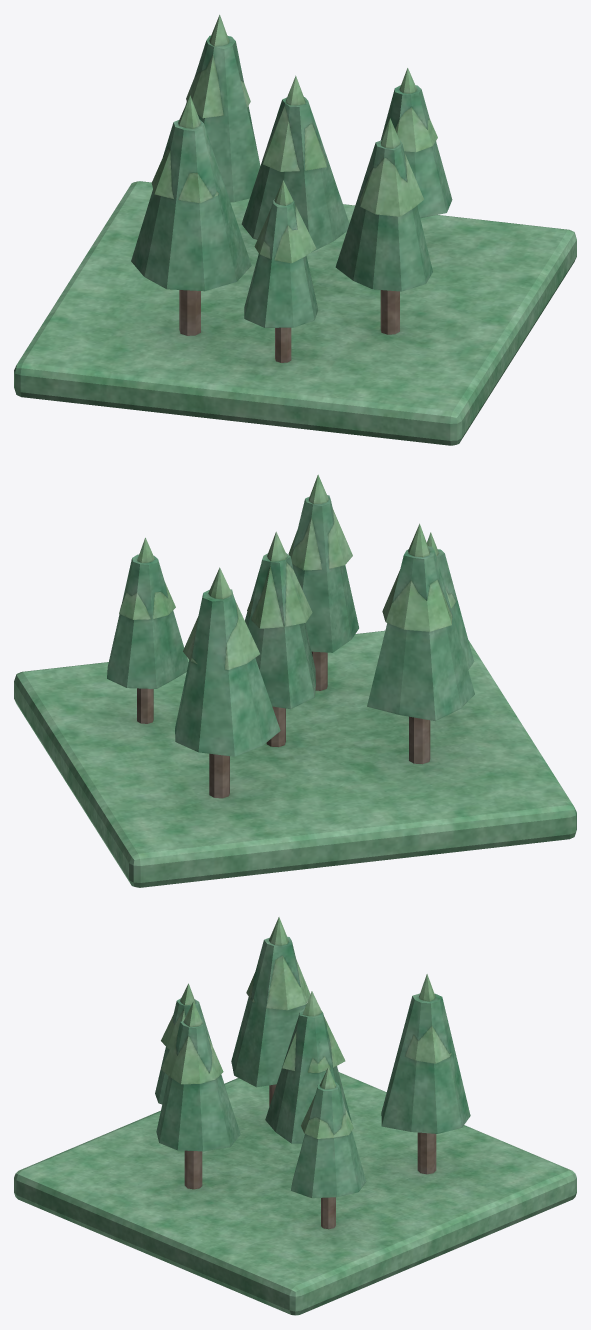
The model's file is yllien_forest.glb.
The picture shows the model from 3 angles, top to bottom: view 1: azimuth 30°, elevation 25°; view 2: azimuth 150°, elevation 25°; view 3: azimuth 270°, elevation 25°; orthographic projection. The views are drawn at different scales.
Visible parts, largest first — view 1: dilek; view 2: dilek; view 3: dilek.
Part boxes in pixels (x1=…): dilek: x1=14, y1=14, x2=576, y2=445; dilek: x1=14, y1=474, x2=576, y2=887; dilek: x1=14, y1=917, x2=576, y2=1315.
Size of the model in its own units: 2.42 by 1.11 by 2.42.
Materials: 1 (1 with a texture image).
